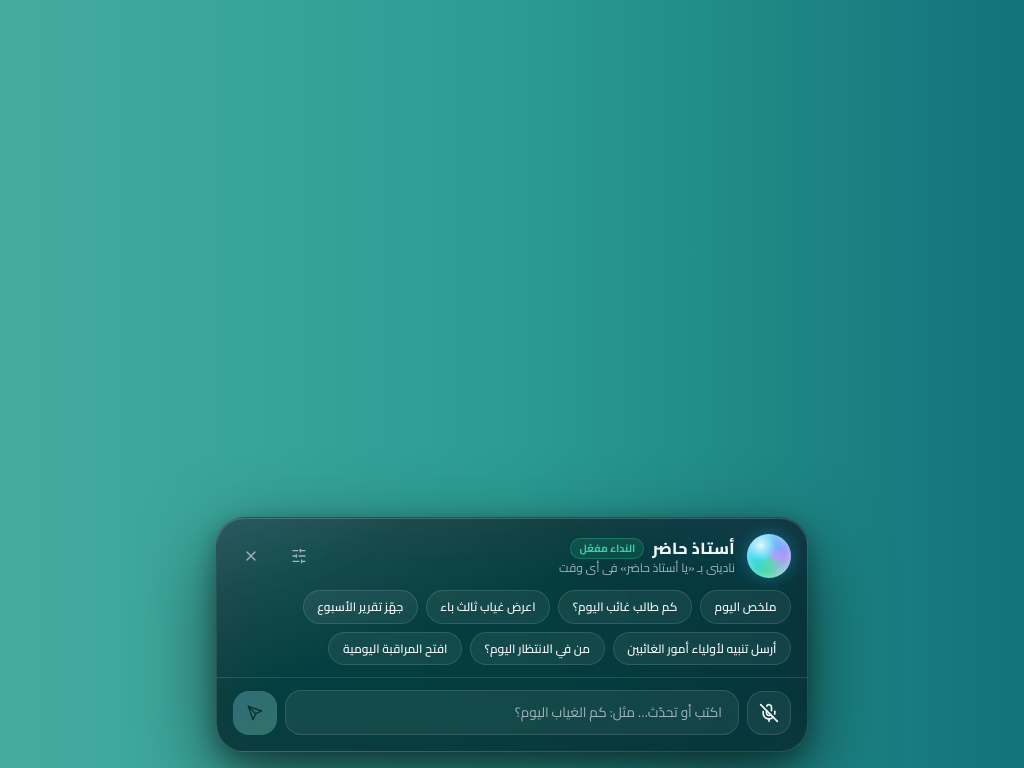
Test case: UstadHaderPanel › routes voice theme changes through the layout so the setting is saved
In the field with placeholder "اكتب أو تحدّث… مثل: كم الغياب اليوم؟": (512, 713) [285,690,739,735], type "الوضع الداكن"
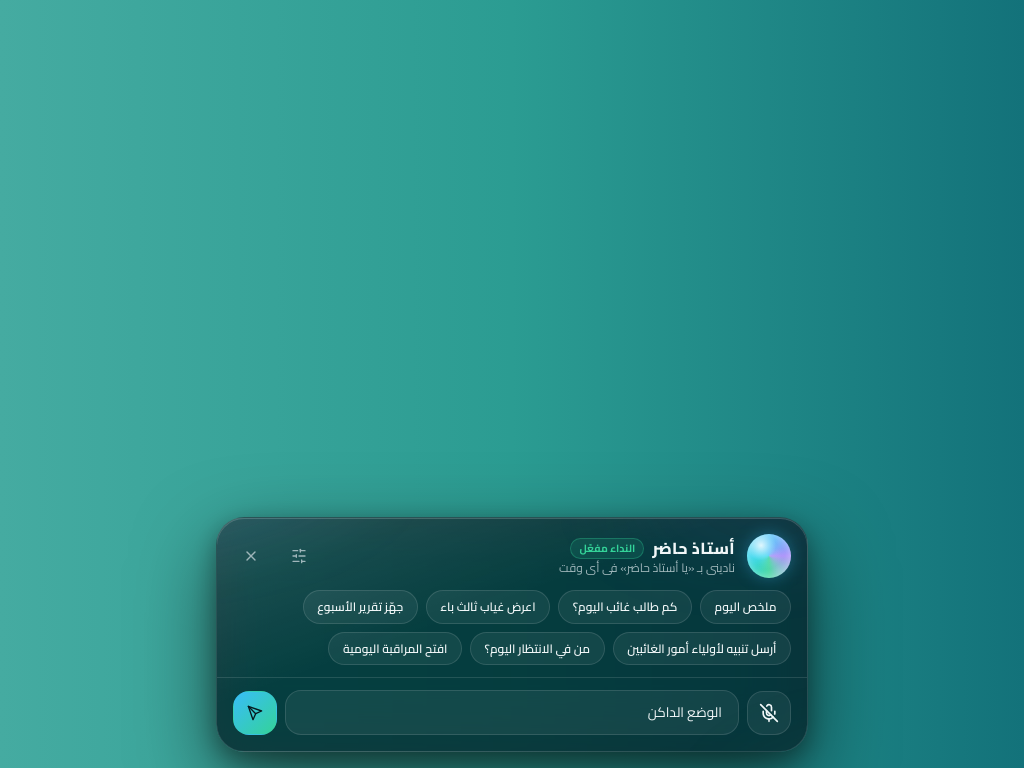
Click the button titled "إرسال الأمر": (255, 713) [233,691,277,735]
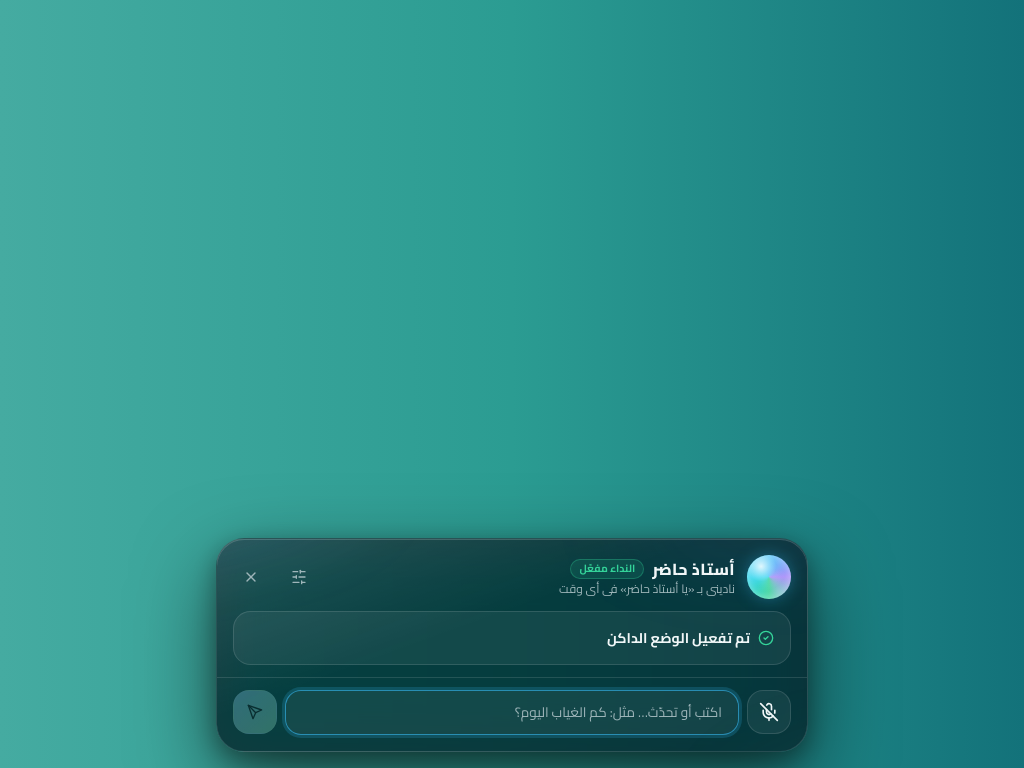
expect the text "تم تفعيل الوضع الداكن" is shown: met, box [607,628,750,648]
